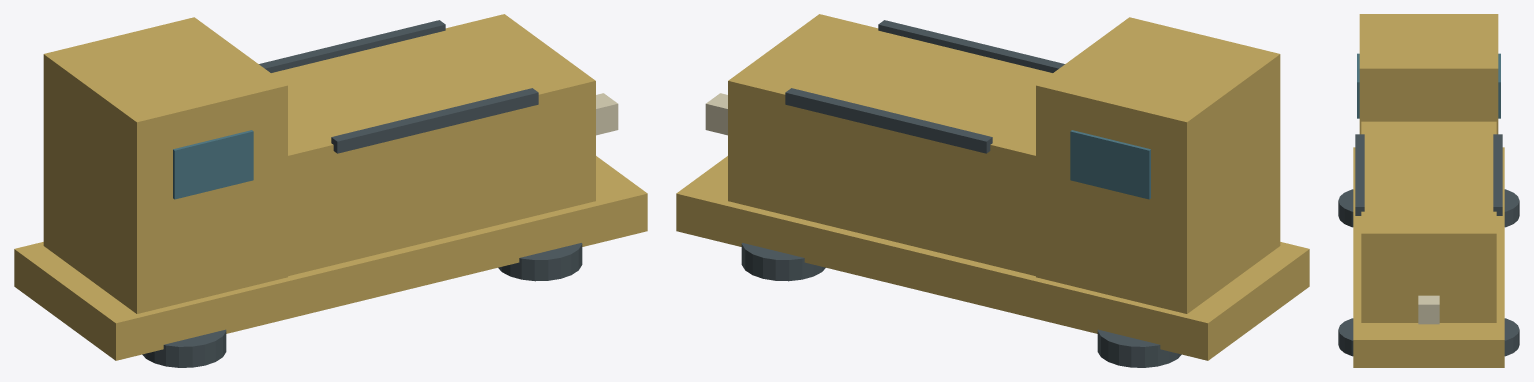
Rendered from locomotive-lod0.glb.
3 renders of one model, left to right at view 1: azimuth 30°, elevation 25°; view 2: azimuth 150°, elevation 25°; view 3: azimuth 270°, elevation 25°, orthographic. The views are drawn at different scales.
Visible parts, largest first — view 1: cab, hood, body, glass_right, handrail_r, handrail_l, wheel_2.35_0.95, wheel_-2.6_0.95, headlamp; view 2: cab, hood, body, glass_left, handrail_l, handrail_r, wheel_2.35_-0.95, wheel_-2.6_-0.95, headlamp; view 3: hood, cab, body, handrail_r, handrail_l, headlamp, wheel_-2.6_-0.95, wheel_-2.6_0.95, wheel_2.35_-0.95, wheel_2.35_0.95, glass_right, glass_left.
Boxes of the visible parts, x1=… form: cab: x1=43, y1=17, x2=287, y2=313; hood: x1=271, y1=14, x2=595, y2=276; body: x1=14, y1=156, x2=647, y2=360; glass_right: x1=173, y1=130, x2=253, y2=199; handrail_r: x1=331, y1=88, x2=538, y2=153; handrail_l: x1=259, y1=20, x2=445, y2=72; wheel_2.35_0.95: x1=498, y1=243, x2=582, y2=281; wheel_-2.6_0.95: x1=142, y1=329, x2=226, y2=367; headlamp: x1=596, y1=93, x2=618, y2=135; cab: x1=1036, y1=17, x2=1280, y2=313; hood: x1=728, y1=14, x2=1052, y2=276; body: x1=676, y1=156, x2=1309, y2=360; glass_left: x1=1070, y1=130, x2=1150, y2=199; handrail_l: x1=785, y1=88, x2=992, y2=153; handrail_r: x1=878, y1=20, x2=1064, y2=72; wheel_2.35_-0.95: x1=741, y1=243, x2=825, y2=281; wheel_-2.6_-0.95: x1=1097, y1=329, x2=1181, y2=367; headlamp: x1=705, y1=93, x2=727, y2=135; hood: x1=1361, y1=121, x2=1496, y2=322; cab: x1=1359, y1=14, x2=1498, y2=134; body: x1=1353, y1=147, x2=1504, y2=367; handrail_r: x1=1355, y1=134, x2=1364, y2=215; handrail_l: x1=1493, y1=134, x2=1502, y2=215; headlamp: x1=1418, y1=295, x2=1439, y2=324; wheel_-2.6_-0.95: x1=1504, y1=189, x2=1519, y2=227; wheel_-2.6_0.95: x1=1338, y1=189, x2=1353, y2=227; wheel_2.35_-0.95: x1=1504, y1=318, x2=1519, y2=356; wheel_2.35_0.95: x1=1338, y1=318, x2=1353, y2=356; glass_right: x1=1357, y1=53, x2=1359, y2=118; glass_left: x1=1498, y1=53, x2=1500, y2=118.
Bounding box in the file's own units: 7.6 × 3.27 × 2.94.
